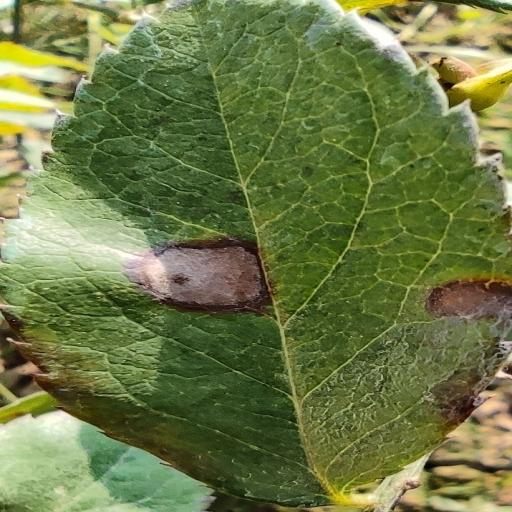black_spot: (0, 0, 511, 507)
